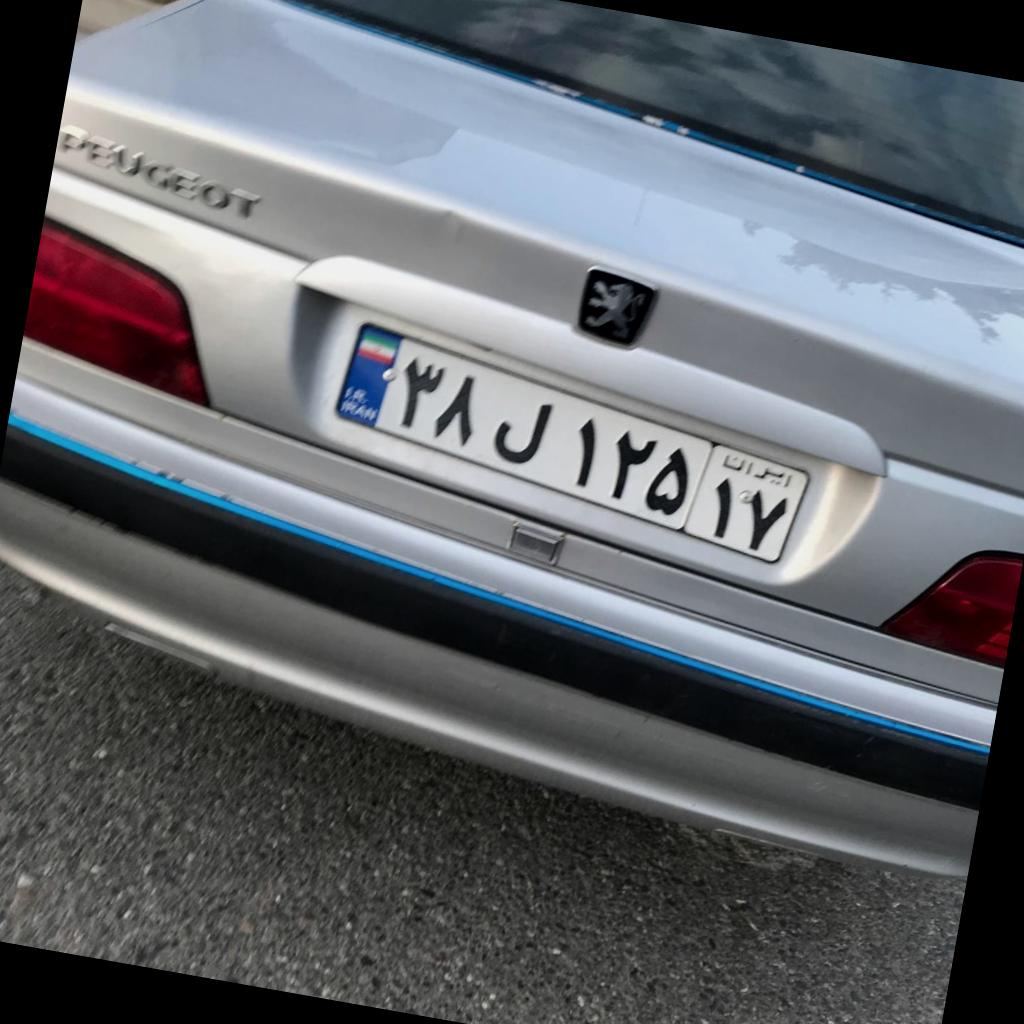Plates: (335, 324, 807, 564)
